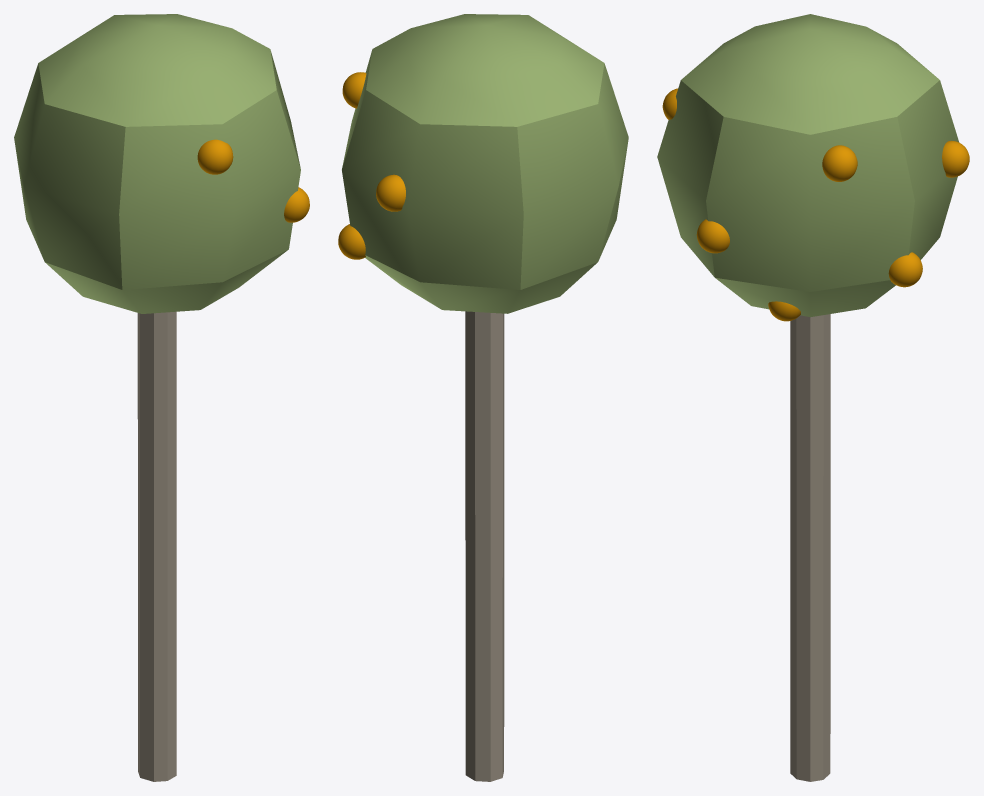
Rendered from oranger.fbx.
3 views of the same model, side by side, from view 1: azimuth 30°, elevation 25°; view 2: azimuth 150°, elevation 25°; view 3: azimuth 270°, elevation 25° (orthographic).
Parts seen in each view (by area): view 1: pCube2; view 2: pCube2; view 3: pCube2.
Part boxes in pixels (bbox=[...]): pCube2: bbox=[14, 14, 309, 781]; pCube2: bbox=[338, 14, 628, 781]; pCube2: bbox=[657, 14, 969, 781].
Size of the model in its own units: 1.6 by 4.33 by 1.63.
